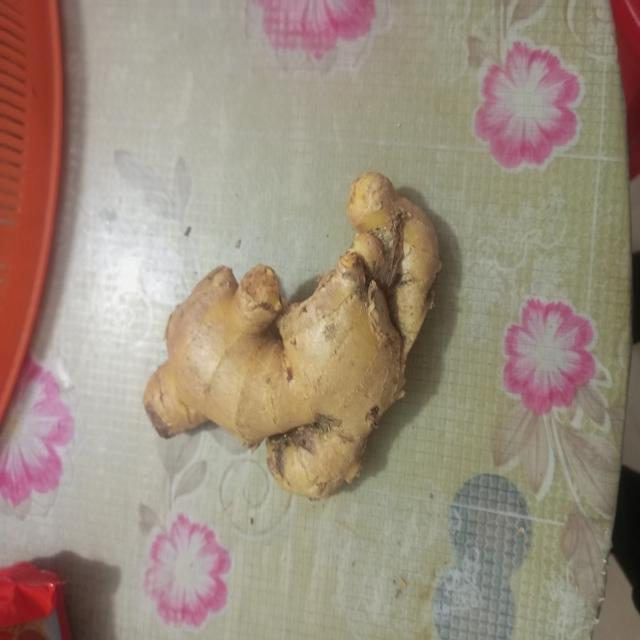ginger: (148, 186, 434, 487)
